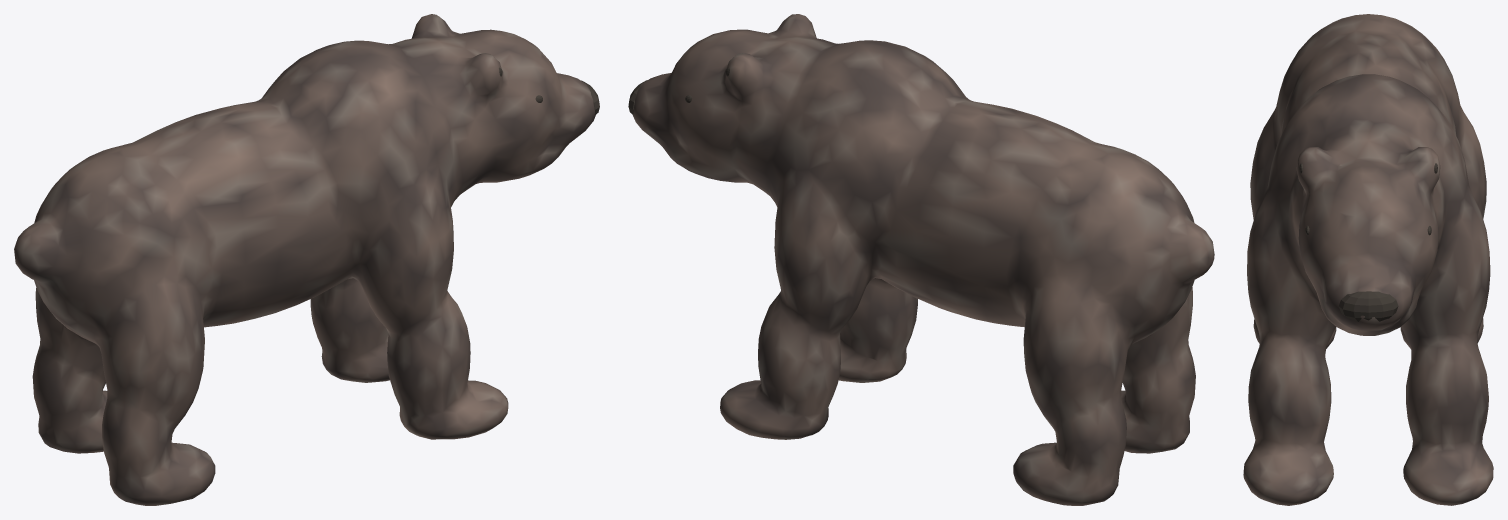
Rendered from bear-landmark-v01.glb.
3 renders of one model, left to right at view 1: azimuth 30°, elevation 25°; view 2: azimuth 150°, elevation 25°; view 3: azimuth 270°, elevation 25°, orthographic. The views are drawn at different scales.
Parts seen in each view (by area): view 1: Bear_carved_red_granite; view 2: Bear_carved_red_granite; view 3: Bear_carved_red_granite, Bear_carved_recesses.
Boxes of the visible parts, <box> form: Bear_carved_red_granite: <box>14,14,595,505</box>; Bear_carved_red_granite: <box>632,14,1214,505</box>; Bear_carved_red_granite: <box>1243,14,1493,505</box>; Bear_carved_recesses: <box>1299,163,1437,321</box>.
Size of the model in its own units: 2.56 by 1.53 by 0.9372.
